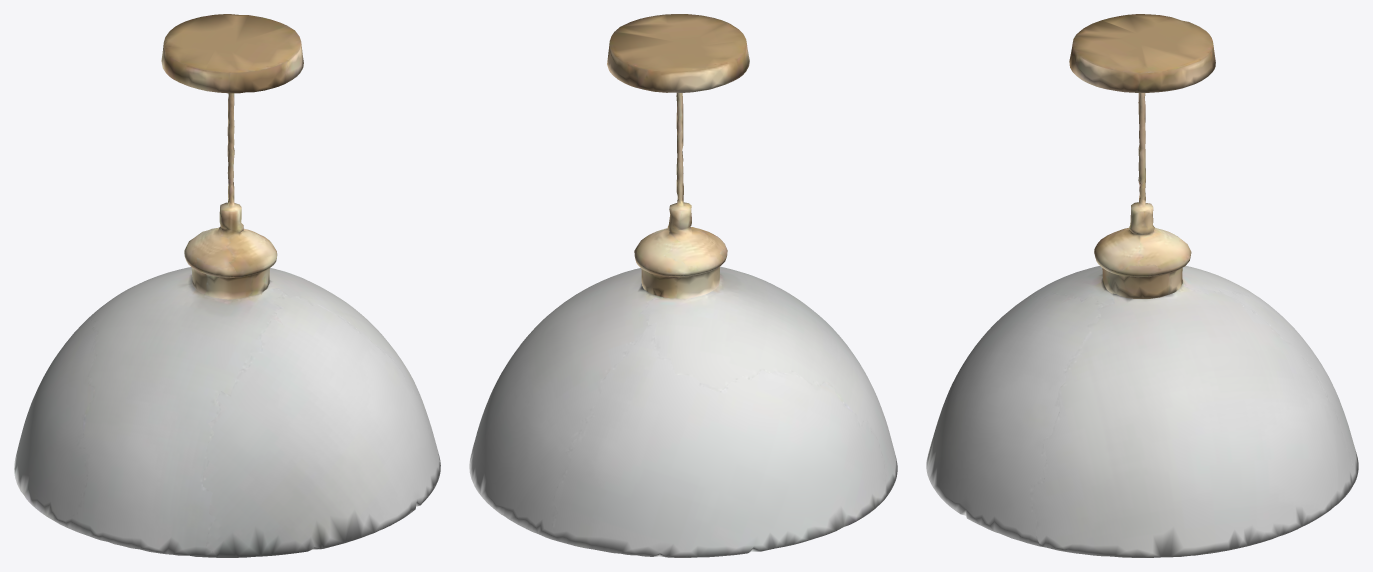
The model's file is 12_pendant_lamp.glb.
3 renders of one model, left to right at view 1: azimuth 30°, elevation 25°; view 2: azimuth 150°, elevation 25°; view 3: azimuth 270°, elevation 25°, orthographic.
Visible parts, largest first — view 1: geometry_0; view 2: geometry_0; view 3: geometry_0.
Part boxes in pixels (x1=…): geometry_0: x1=14, y1=14, x2=440, y2=557; geometry_0: x1=469, y1=14, x2=897, y2=557; geometry_0: x1=926, y1=14, x2=1358, y2=557.
Size of the model in its own units: 1.74 by 1.89 by 1.74.
1 material, 1 textured.
